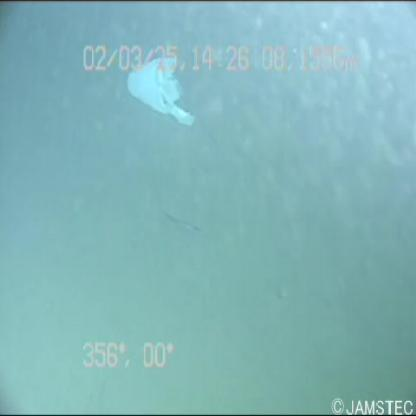Rác: (117, 33, 201, 141)
